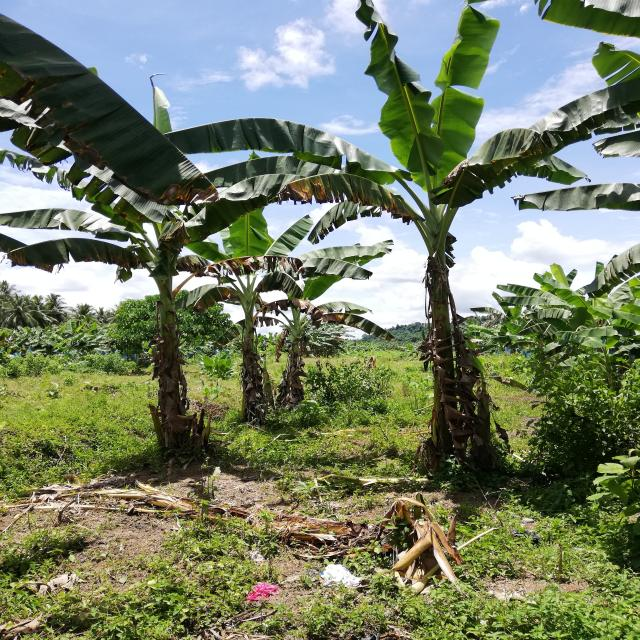Banana-plant: (377, 206, 514, 494), (125, 238, 208, 470), (222, 292, 272, 431), (279, 317, 318, 405)
